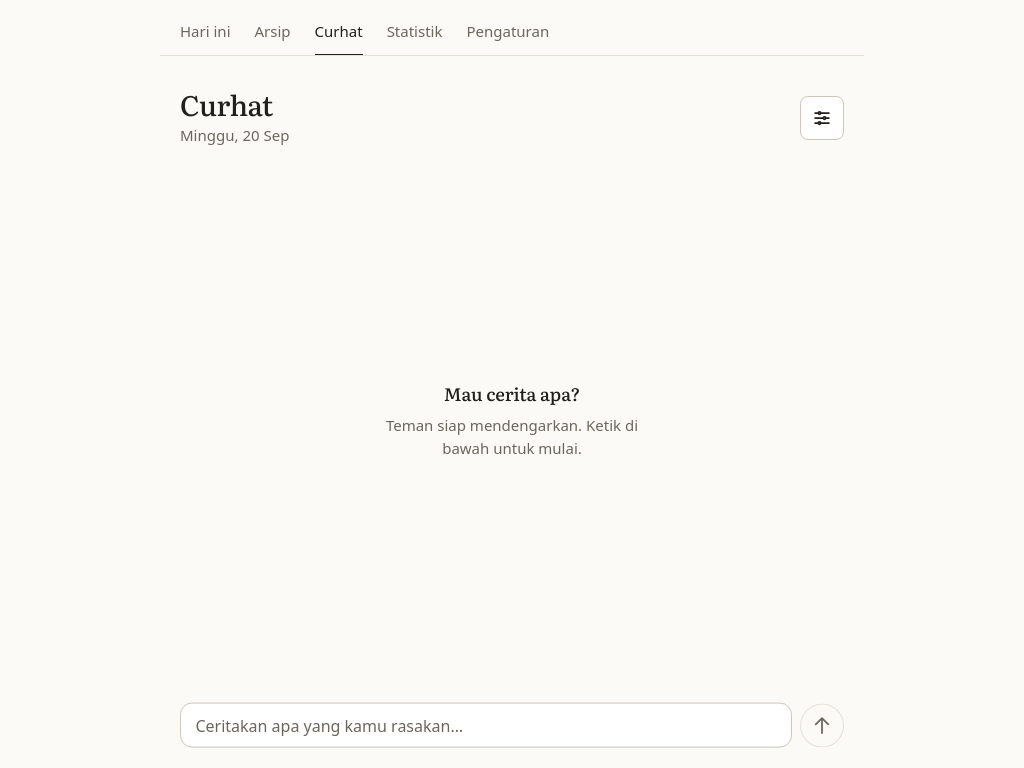
Test: sending shows the streamed reply, clears the input and persists both messages
In the text box named "Pesan": {"x": 486, "y": 726} [180,703,792,748], type "hari ini berat"
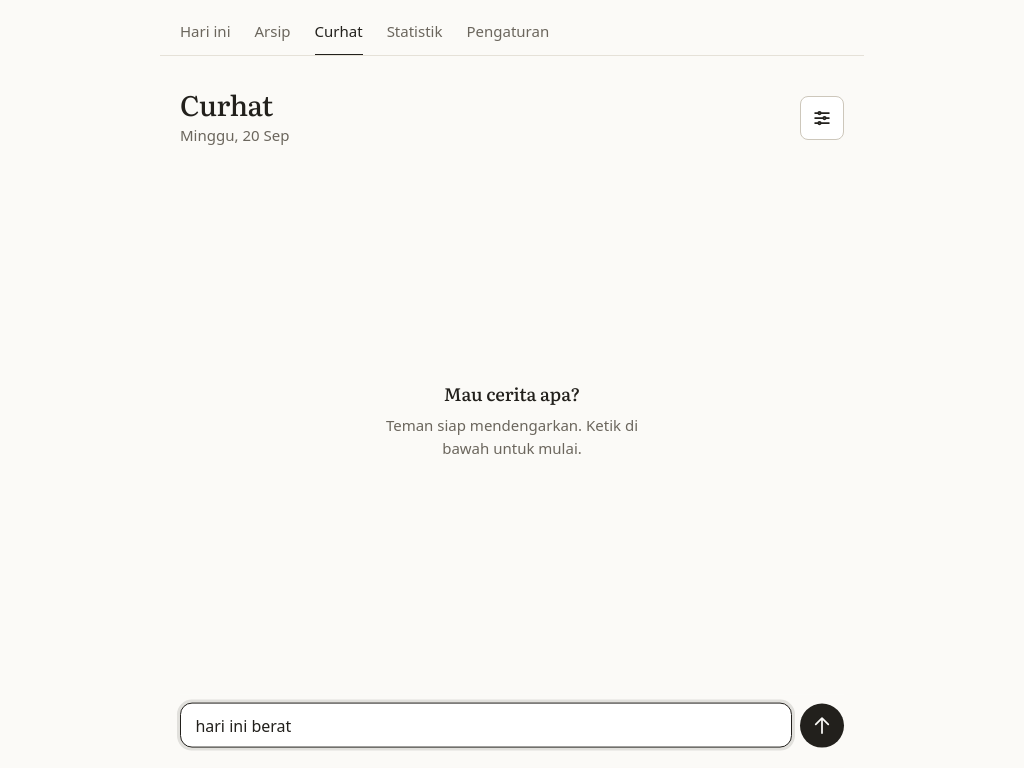
Click the button named "Kirim": {"x": 822, "y": 726} [800,704,844,748]
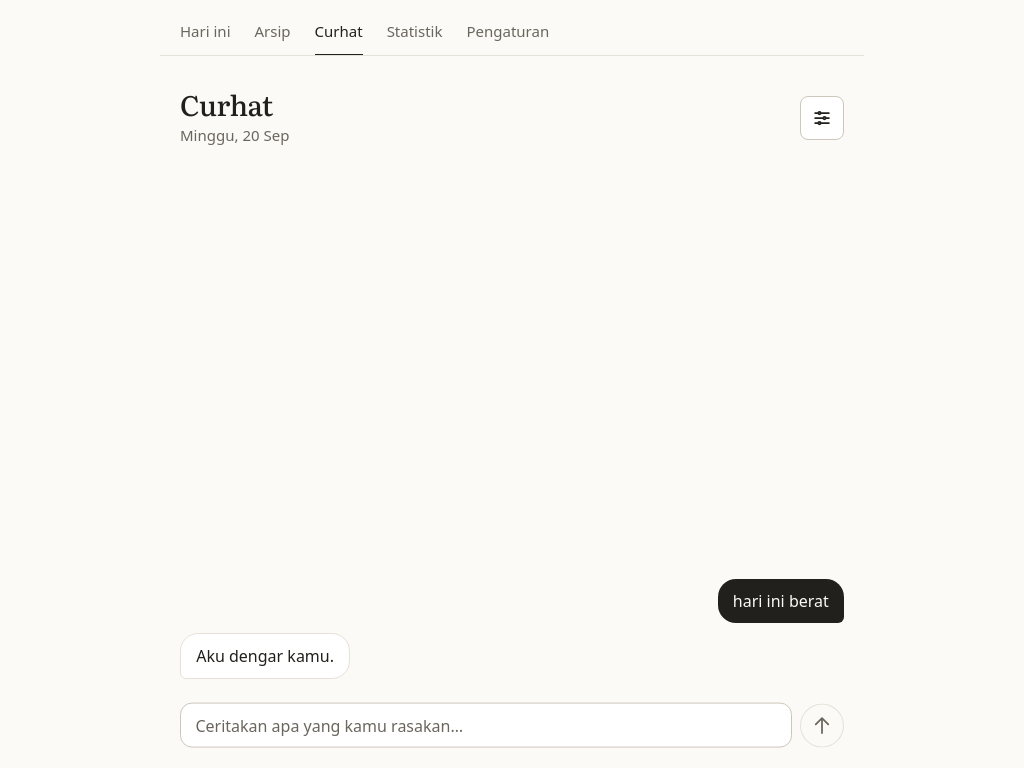
Now the list item "Aku dengar kamu." is shown, box [180,633,350,679]
Now the text box named "Pesan" is empty, box [180,703,792,748]
